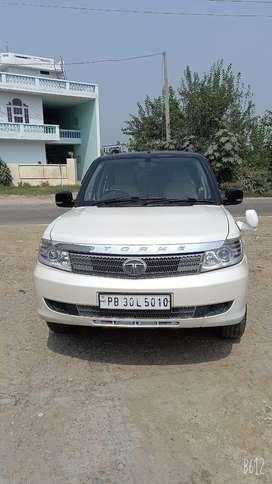PB30L5010: (98, 292, 170, 309)
